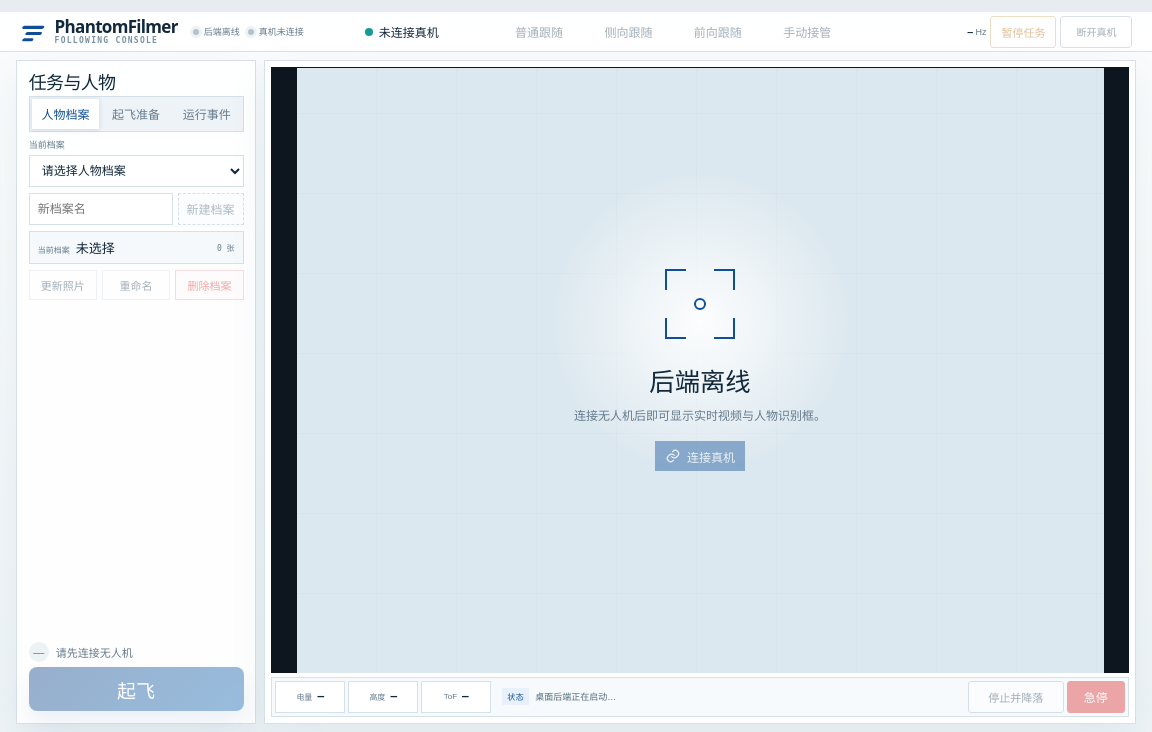
Scenario: desktop follow console › keeps all three setup tabs mounted and reveals content on switch
Expected: the panel named "人物档案" is shown, [29,132,244,300]
Click the tab "起飞准备". click: x=136, y=114
box: [102,99,170,129]
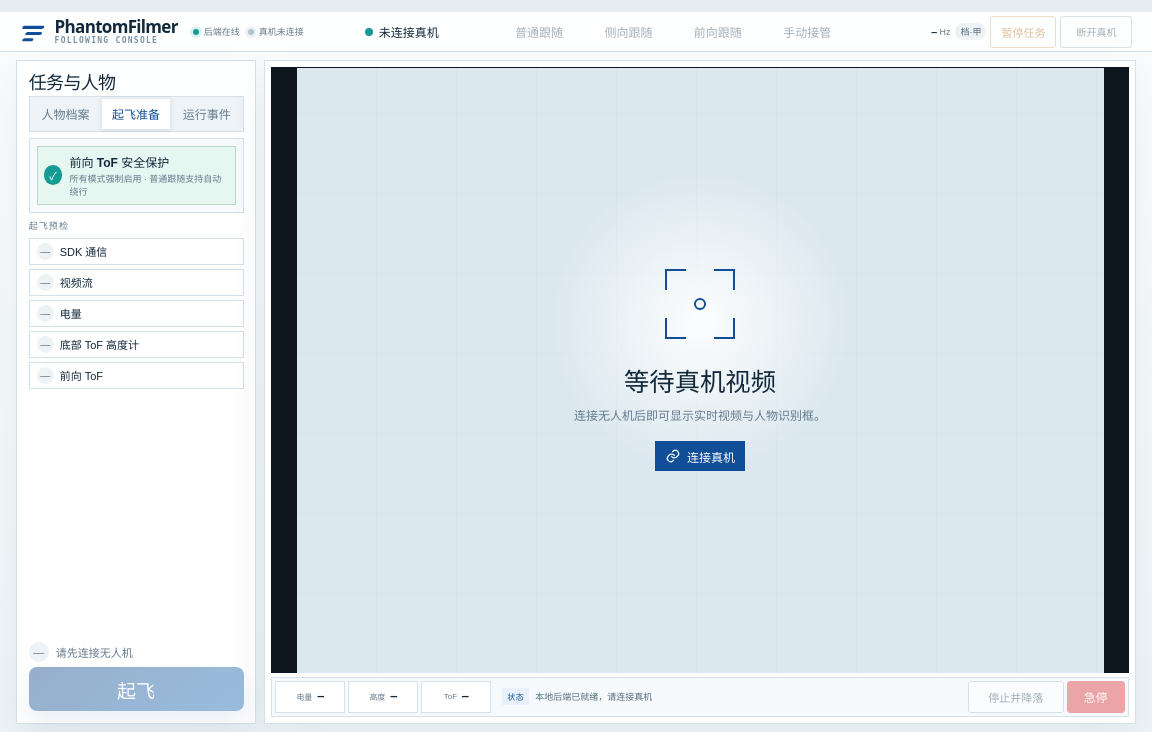
Result: the text "前向 ToF 安全保护" is shown at [69,156,169,170]
Result: the element named "起飞预检清单" is shown at [29,219,244,389]
Click the tab "运行事件". click: x=207, y=114
box: [173,99,241,129]
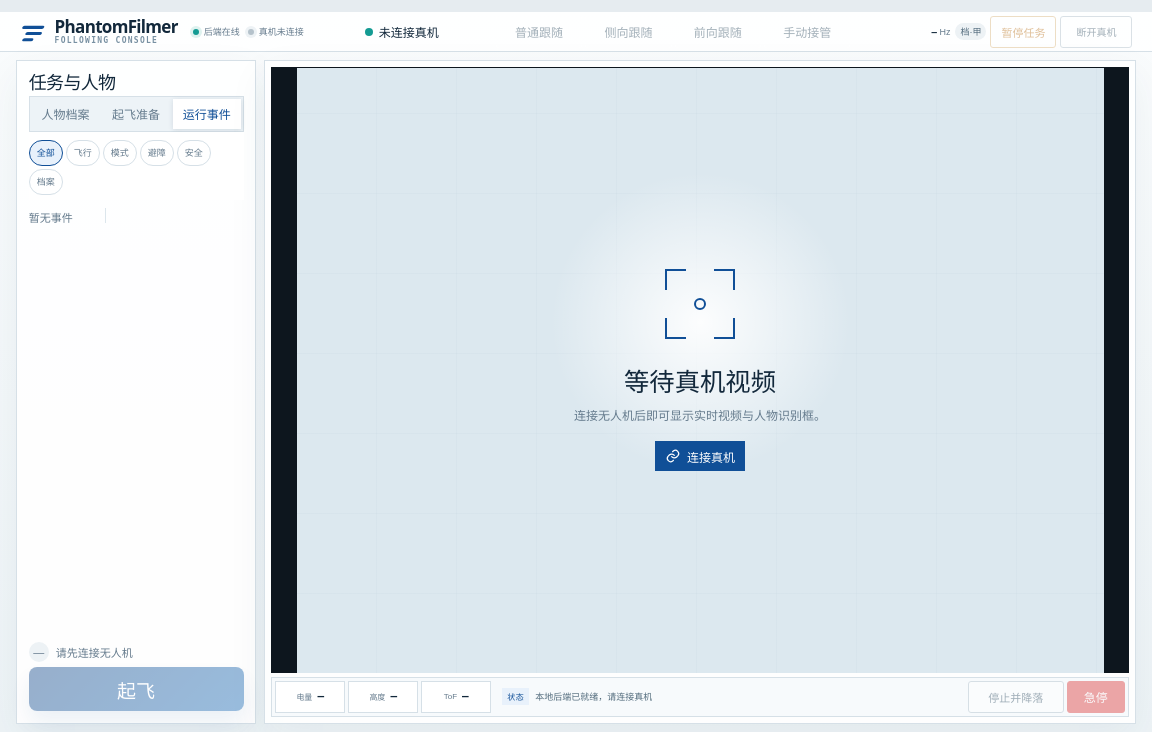
Result: the panel named "运行事件" is shown at [29,132,244,231]
Click the tab "人物档案". click: x=65, y=114
box: [32,99,99,129]
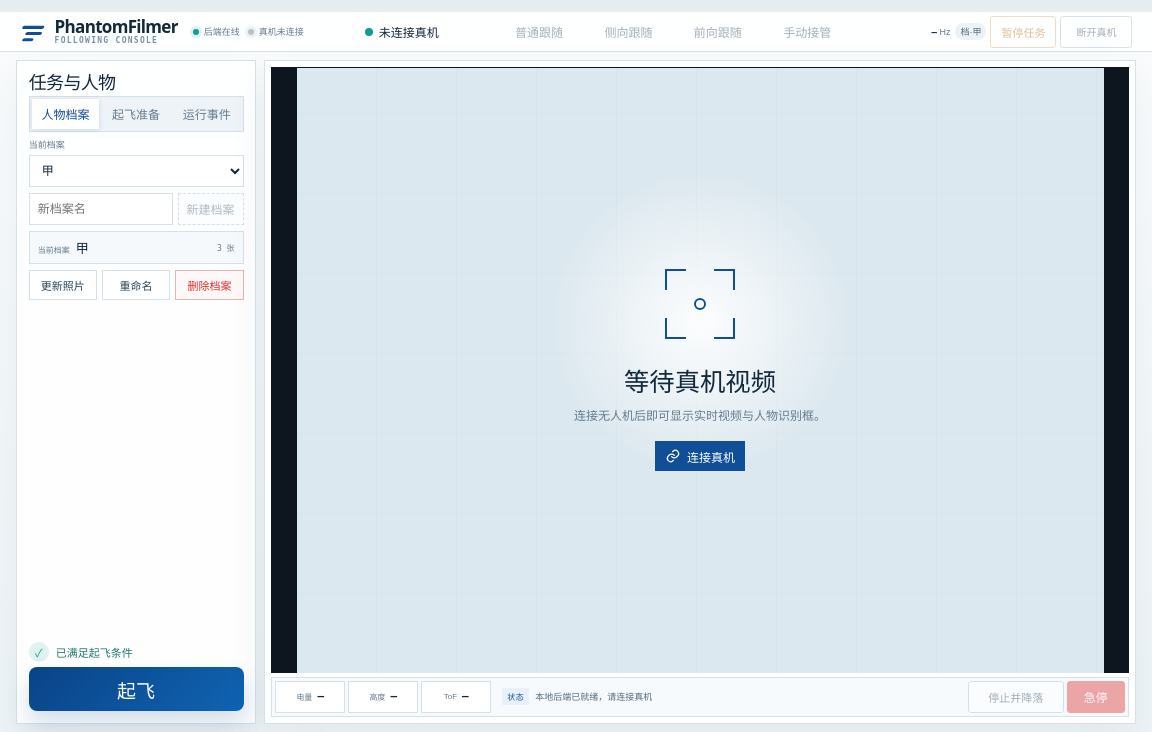
Result: the dropdown named "人物档案" is shown at [29,155,244,187]
